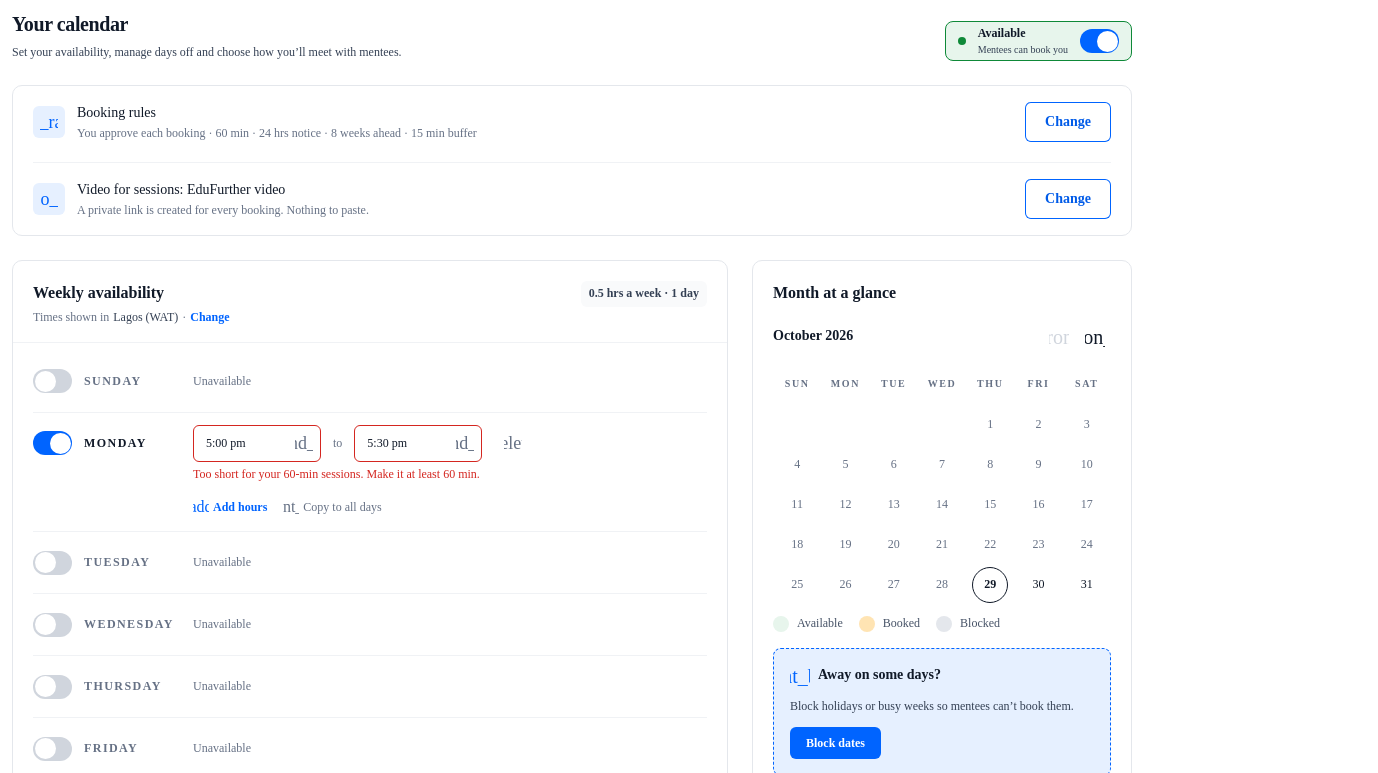
Test: CalendarScreen: busy and video › unsaved and invalid hours: says to fix and save first, focus on the hours
Click the switch named "Tuesday" next to "Tuesday" at (52,563), box left=33, top=551, right=72, bottom=575
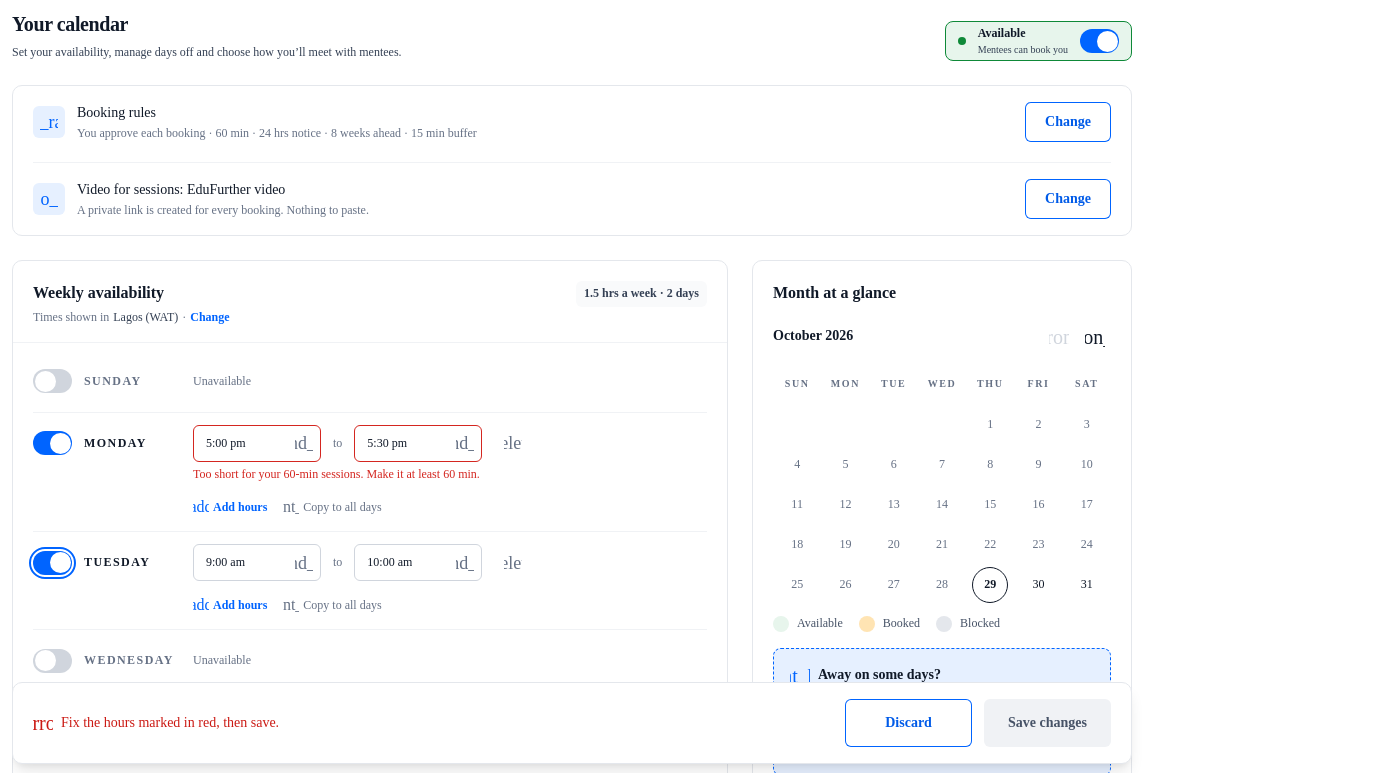
Click the switch named "Available for new bookings" at (1100,41), box left=1080, top=29, right=1119, bottom=53
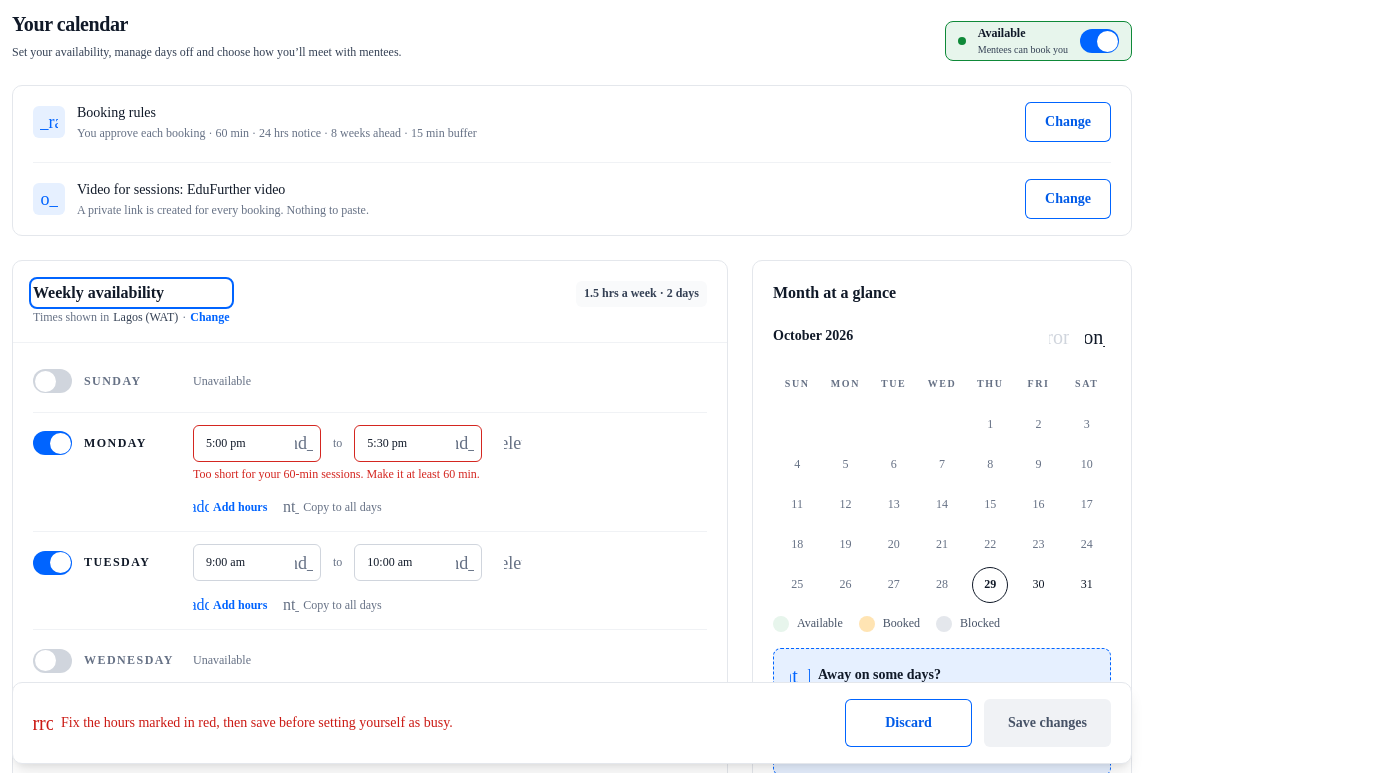
Check: the message shows "Fix the hours marked in red, then save before setting yourself as busy.", box left=61, top=715, right=453, bottom=730
